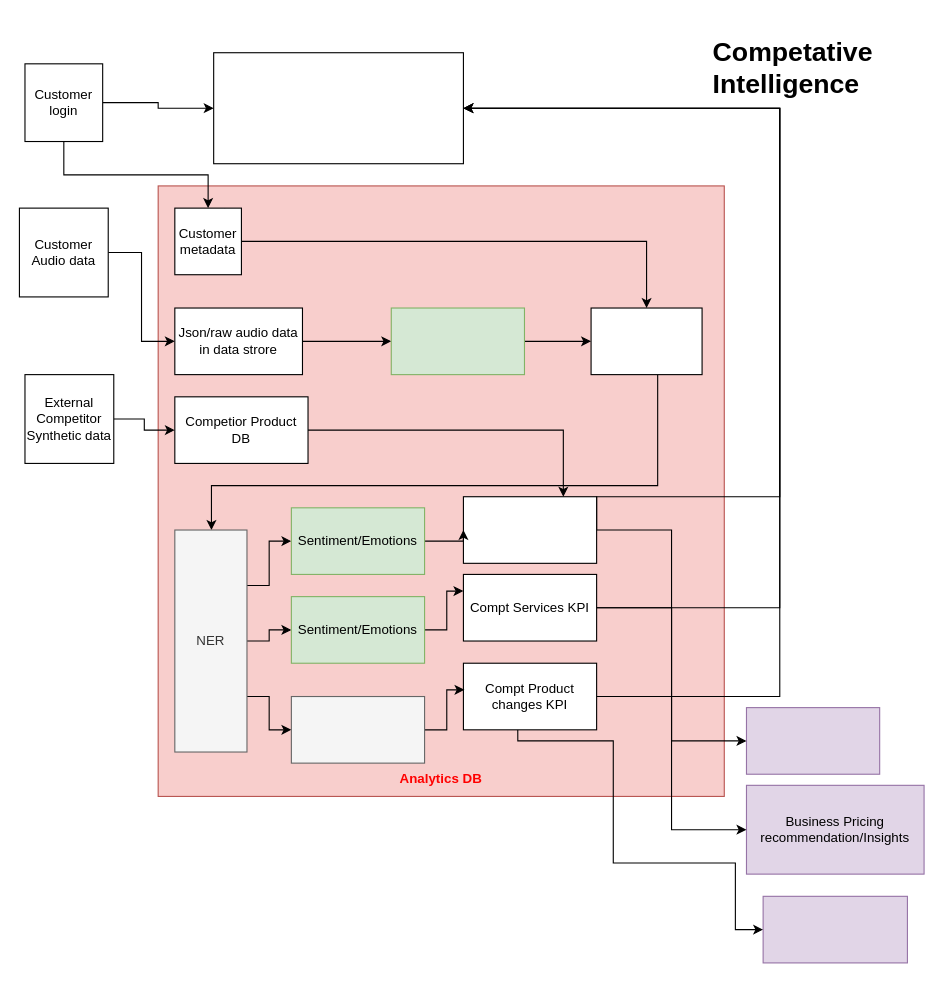
Some shapes in this 944 by 982 pixel diagram are drawn without their labels. Here are the shapes that lost their labels. From the top down, the centre of each, then its label:
At pixel 338 108: "Customer Success UI platform".
At pixel 457 341: "transcription of audio to text model".
At pixel 646 341: "Text PII removal".
At pixel 529 529: "Compt Pricing KPI".
At pixel 357 729: "Sentiment".
At pixel 812 740: "Recommend Business Services".
At pixel 834 929: "Recommend Product team for Design changes".
